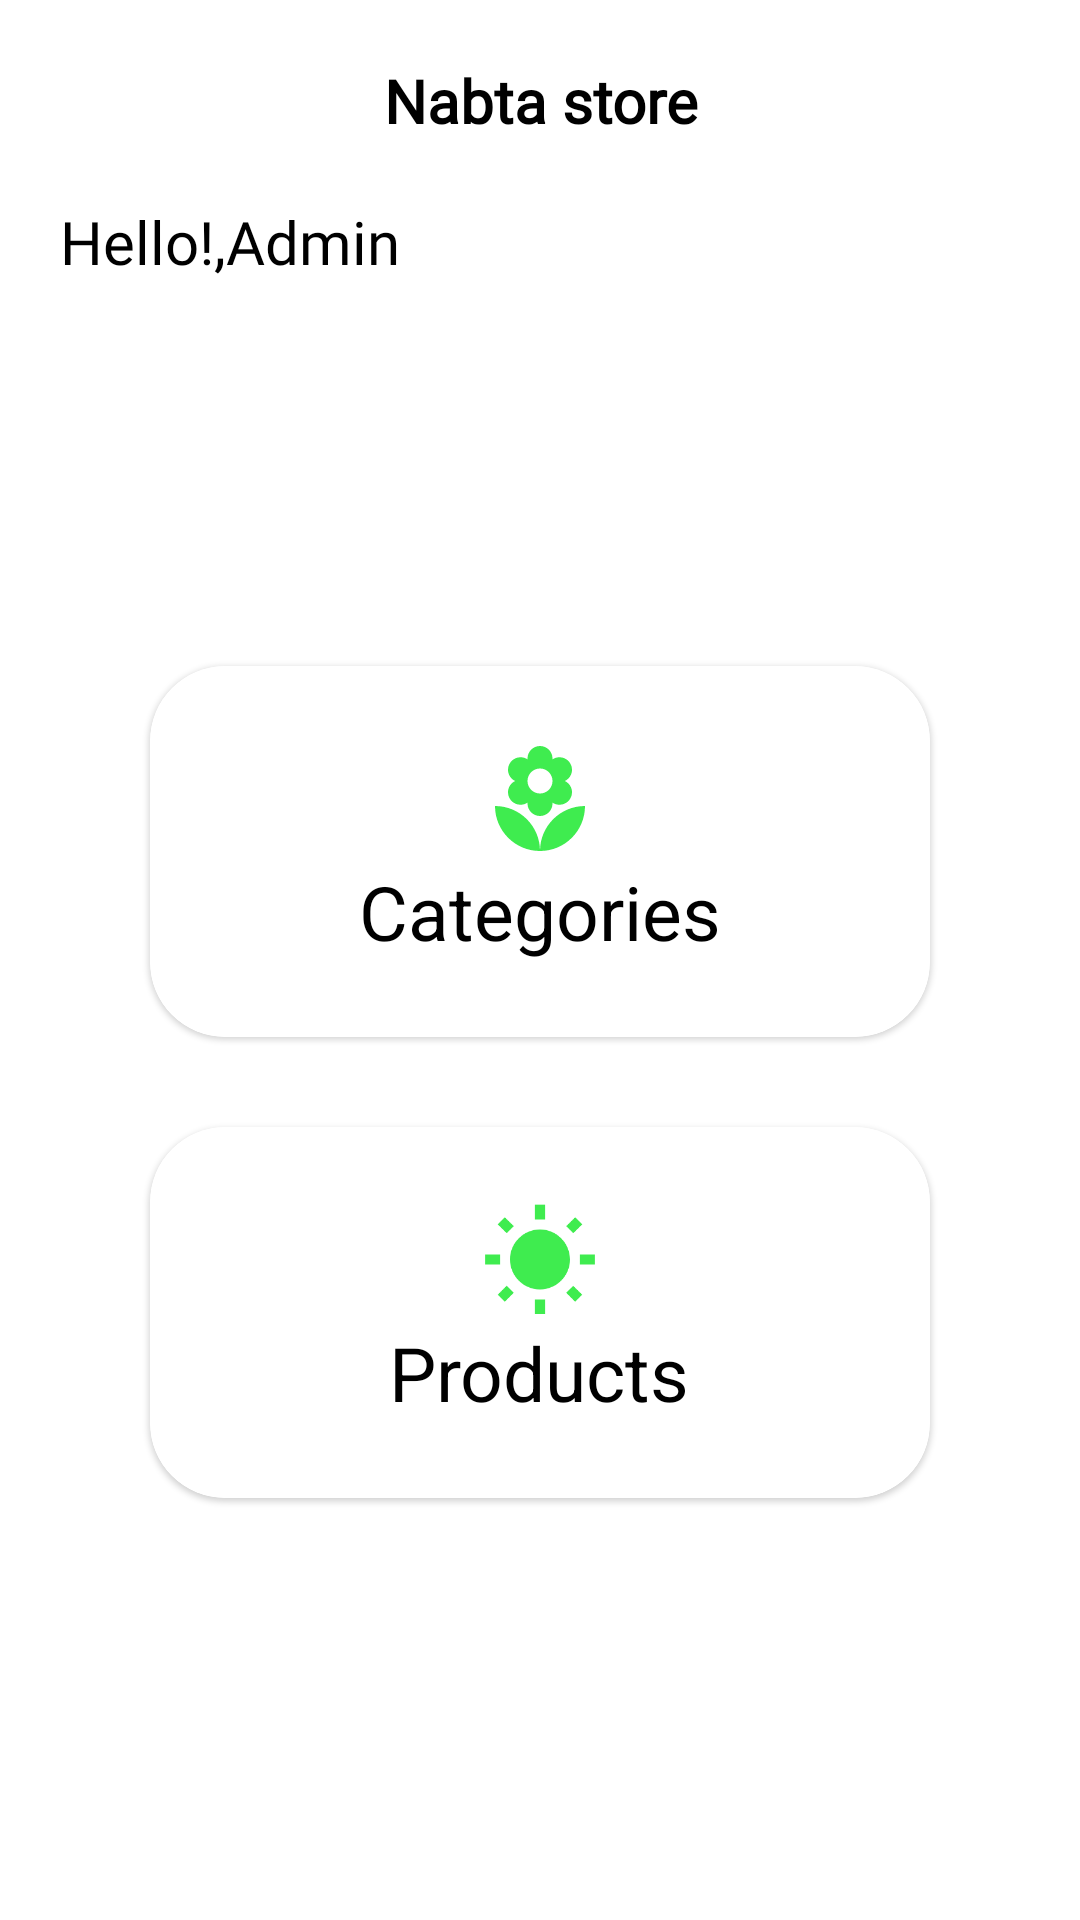

Screen size 1080px x 1920px. Icon name, then its center in pixels as (x,y):
flower: (540,798)
sun: (540,1259)
